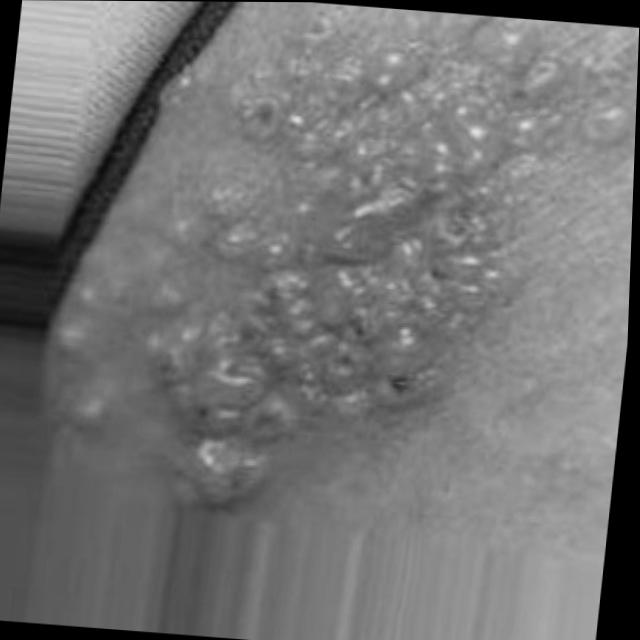Shingles: (40, 0, 640, 527)
